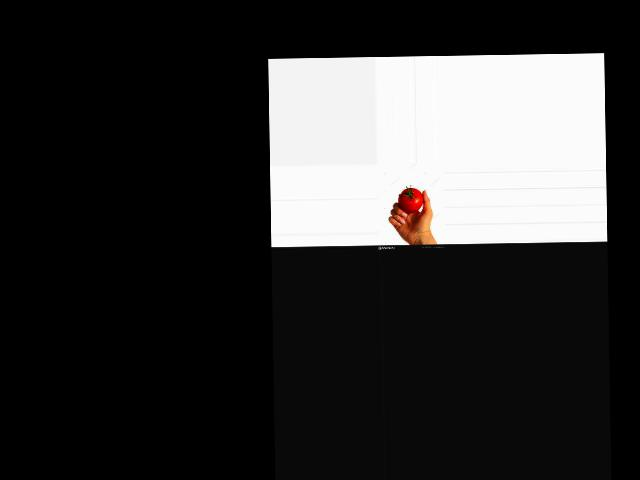tomato: (398, 187, 423, 213)
